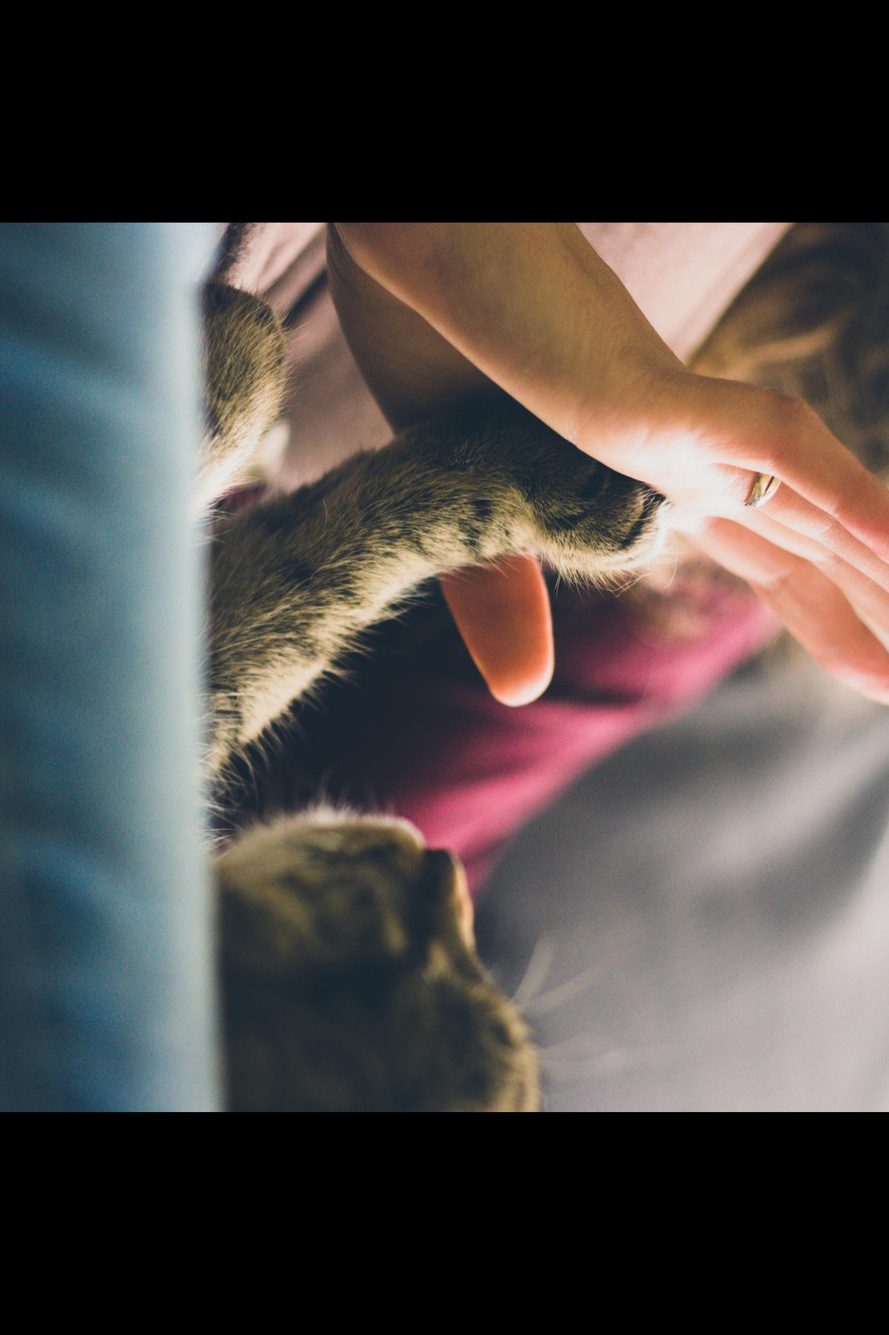cat: (202, 466, 669, 1112)
